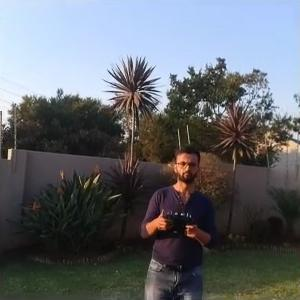follow: (133, 134, 219, 298)
